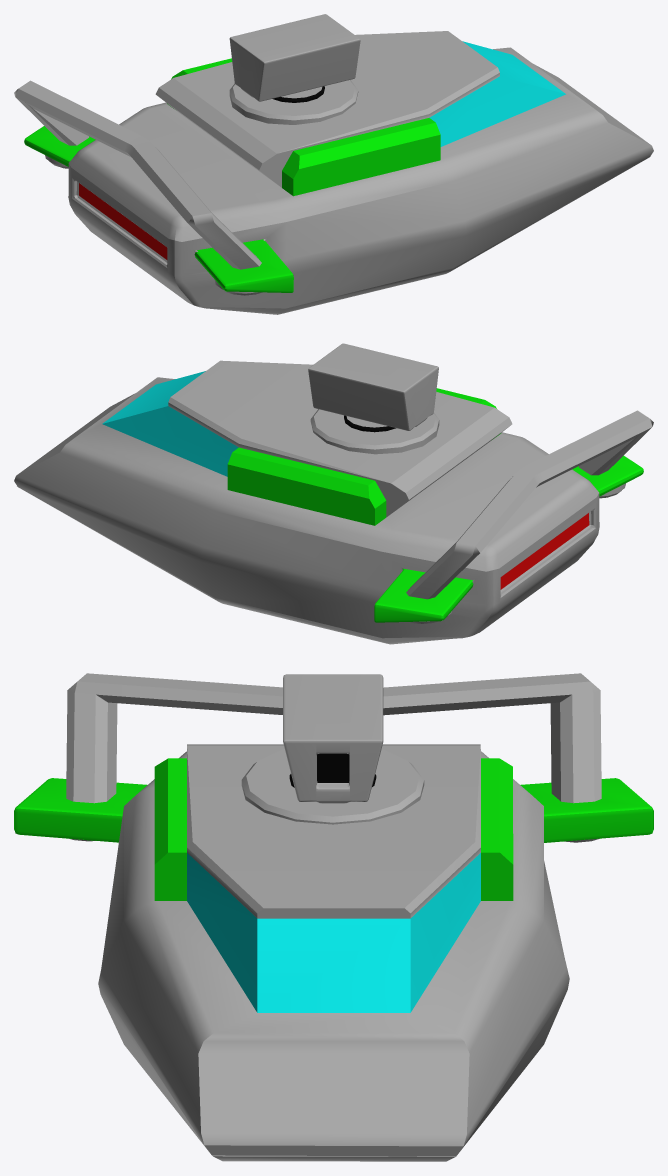
Rendered from ScoutVehicle.fbx.
The picture shows the model from 3 angles, top to bottom: view 1: azimuth 30°, elevation 25°; view 2: azimuth 150°, elevation 25°; view 3: azimuth 270°, elevation 25°; orthographic projection. The views are drawn at different scales.
Parts seen in each view (by area): view 1: Body, Turret; view 2: Body, Turret; view 3: Body, Turret.
Boxes of the visible parts, <box> form: Body: <box>14,31,653,314</box>; Turret: <box>229,14,360,124</box>; Body: <box>14,360,653,644</box>; Turret: <box>308,343,439,454</box>; Body: <box>14,673,653,1161</box>; Turret: <box>241,674,424,824</box>.
Size of the model in its own units: 1.98 by 0.7903 by 1.52.
